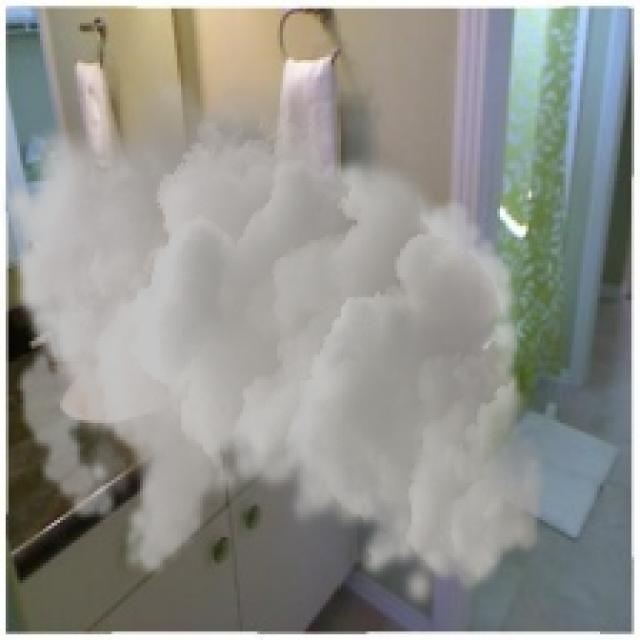Smoke: (0, 54, 549, 612)
